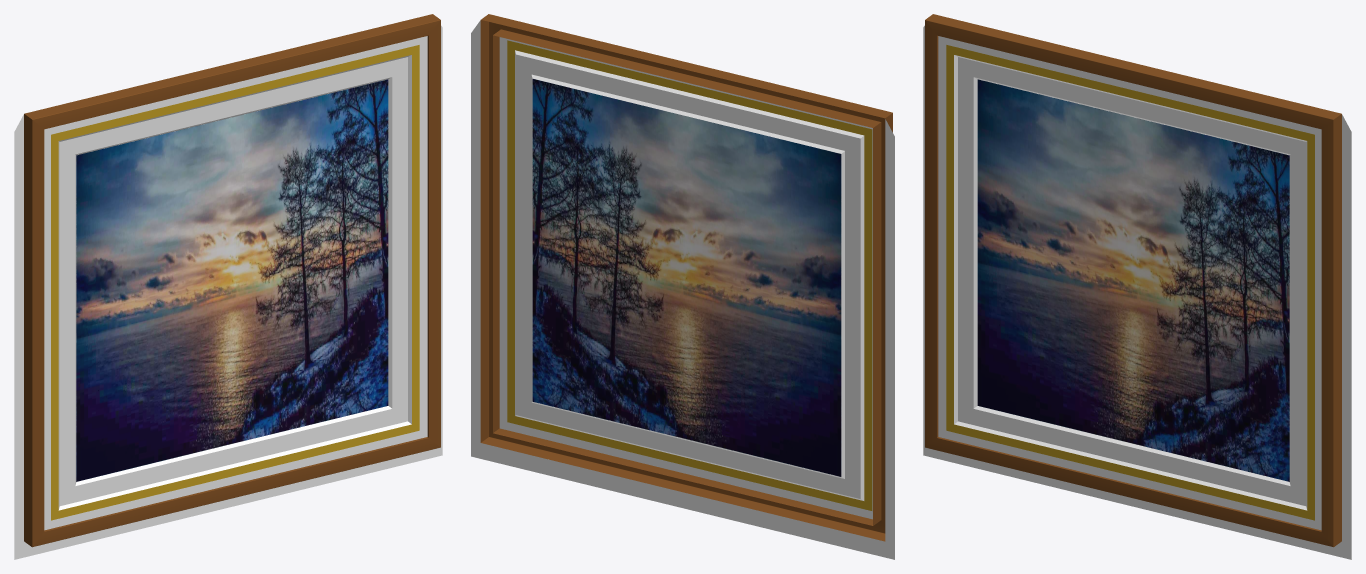
3 views of the same model, side by side, from view 1: azimuth 30°, elevation 25°; view 2: azimuth 150°, elevation 25°; view 3: azimuth 330°, elevation 25° (orthographic).
Visible parts, largest first — view 1: painting, frame, frame_insA_shadow, frame_insA, frame_insB_shadow, frame_insB, shadow, frame_insA_45o, frame_insB_45o; view 2: painting, frame, shadow, frame_insA, frame_insB_shadow, frame_insB, frame_insA_shadow, frame_insA_45o, frame_insB_45o; view 3: painting, frame, frame_insA_shadow, frame_insA, frame_insB_shadow, frame_insB, shadow, frame_insA_45o, frame_insB_45o.
Part boxes in pixels (bbox=[...]): painting: bbox=[76, 79, 388, 481]; frame: bbox=[24, 14, 440, 547]; frame_insA_shadow: bbox=[44, 36, 427, 530]; frame_insA: bbox=[51, 45, 419, 520]; frame_insB_shadow: bbox=[59, 57, 407, 505]; frame_insB: bbox=[67, 67, 400, 495]; shadow: bbox=[14, 25, 442, 559]; frame_insA_45o: bbox=[58, 55, 411, 510]; frame_insB_45o: bbox=[75, 77, 392, 485]; painting: bbox=[532, 79, 841, 476]; frame: bbox=[480, 14, 892, 541]; shadow: bbox=[471, 20, 894, 559]; frame_insA: bbox=[507, 40, 872, 510]; frame_insB_shadow: bbox=[516, 54, 860, 498]; frame_insB: bbox=[523, 64, 852, 488]; frame_insA_shadow: bbox=[499, 37, 872, 519]; frame_insA_45o: bbox=[515, 50, 864, 500]; frame_insB_45o: bbox=[531, 74, 844, 478]; painting: bbox=[977, 79, 1289, 481]; frame: bbox=[925, 14, 1341, 547]; frame_insA_shadow: bbox=[938, 36, 1321, 530]; frame_insA: bbox=[946, 45, 1314, 520]; frame_insB_shadow: bbox=[958, 57, 1306, 505]; frame_insB: bbox=[965, 67, 1298, 495]; shadow: bbox=[923, 25, 1351, 559]; frame_insA_45o: bbox=[954, 55, 1307, 510]; frame_insB_45o: bbox=[973, 77, 1290, 485].
Size of the model in its own units: 1.37 by 1.36 by 0.0453.
9 materials, 1 textured.
